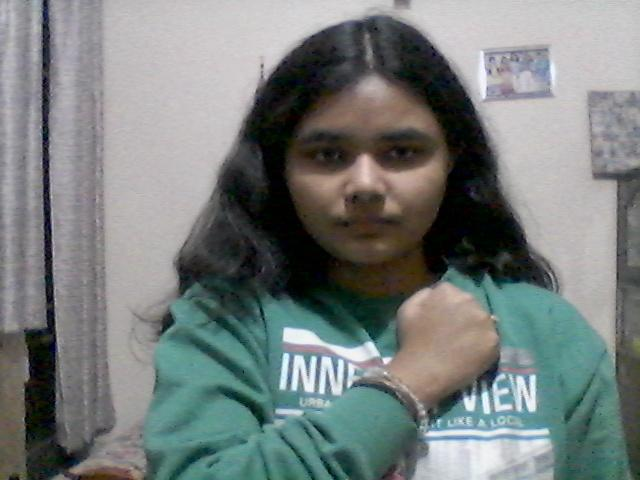sorry: (368, 284, 511, 416)
